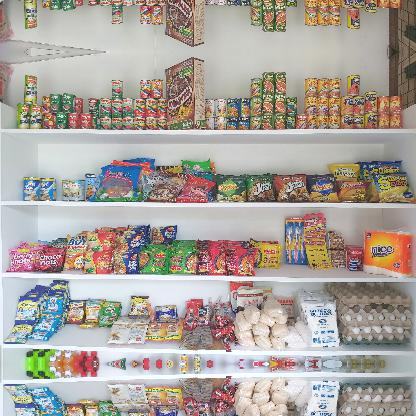Koko-Krunch: (165, 57, 205, 130), (165, 0, 206, 48)
